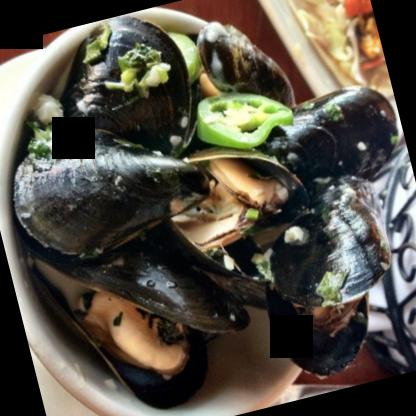mussel: (36, 206, 250, 414), (135, 140, 324, 321), (6, 110, 213, 274), (47, 3, 211, 180), (247, 78, 414, 214)
